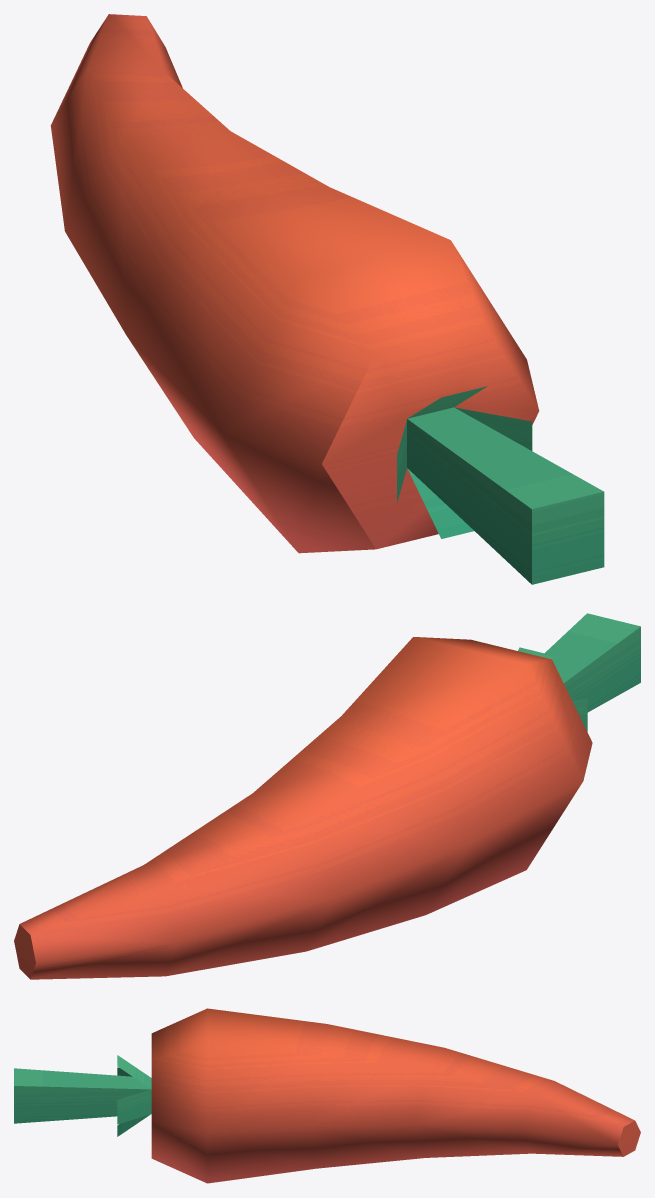
Rendered from pepper.glb.
The picture shows the model from 3 angles, top to bottom: view 1: azimuth 30°, elevation 25°; view 2: azimuth 150°, elevation 25°; view 3: azimuth 270°, elevation 25°; orthographic projection. The views are drawn at different scales.
Parts seen in each view (by area): view 1: pepper; view 2: pepper; view 3: pepper.
Boxes of the visible parts, left/top/right/bottom form: pepper: left=50, top=14, right=604, bottom=584; pepper: left=14, top=613, right=640, bottom=979; pepper: left=14, top=1008, right=640, bottom=1183.
Size of the model in its own units: 0.1039 by 0.0775 by 0.3191.
Materials: 1 (1 with a texture image).
